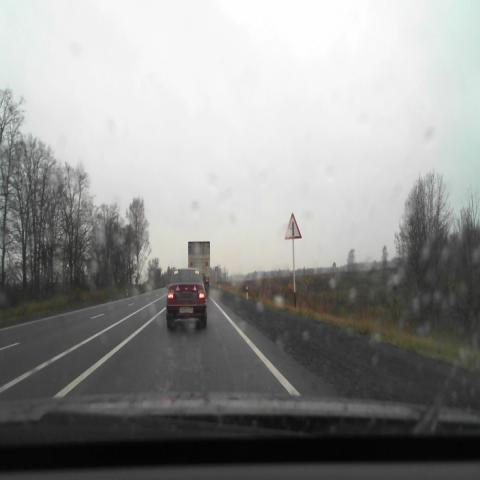2_3_3: (284, 212, 302, 239)
